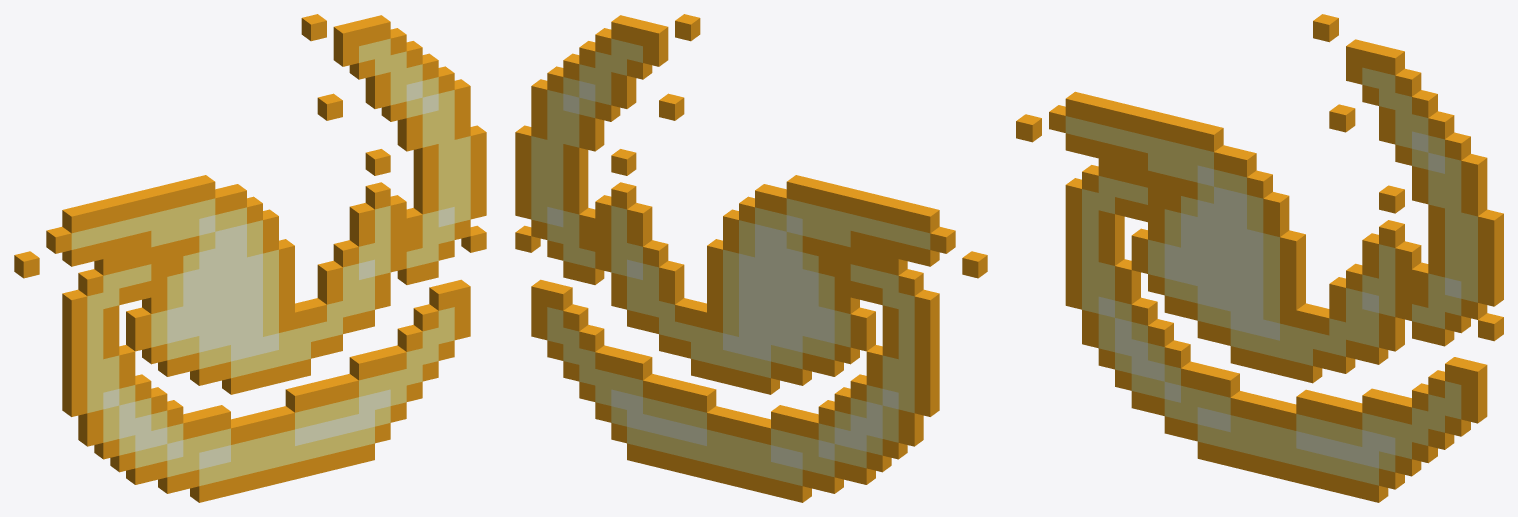
File: Fight_732_2_04_fx.obj
3 renders of one model, left to right at view 1: azimuth 30°, elevation 25°; view 2: azimuth 150°, elevation 25°; view 3: azimuth 330°, elevation 25°, orthographic. The views are drawn at different scales.
Bounding box in the file's own units: 2.9 × 2.7 × 0.1.
1 material, 1 textured.
